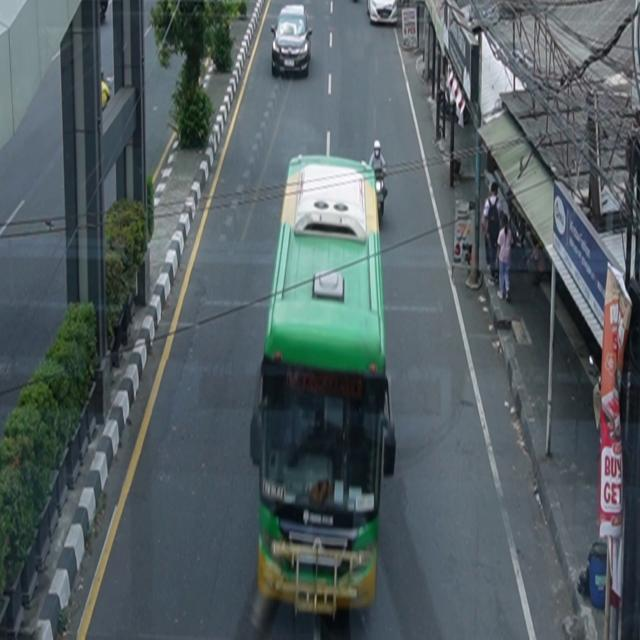bus: (250, 153, 397, 619)
car: (271, 5, 313, 79), (367, 1, 398, 26)
